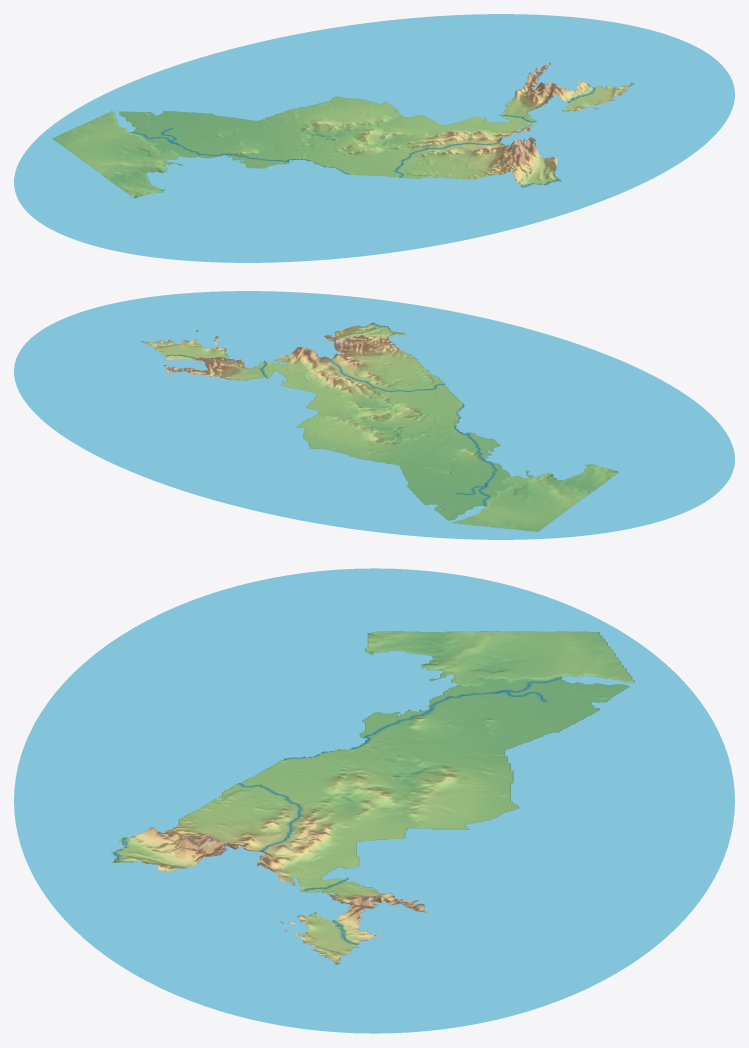
File: UZB-terrain.glb
3 renders of one model, top to bottom at view 1: azimuth 30°, elevation 25°; view 2: azimuth 150°, elevation 25°; view 3: azimuth 270°, elevation 25°, orthographic. The views are drawn at different scales.
Visible parts, largest first — view 1: Relevo com hidrografia; view 2: Relevo com hidrografia; view 3: Relevo com hidrografia.
Part boxes in pixels (x1,y1,x2,y2): Relevo com hidrografia: (14,14,734,262); Relevo com hidrografia: (14,291,734,539); Relevo com hidrografia: (14,568,734,1033).
Bounding box in the file's own units: 2.21 × 0.0541 × 1.45.
Materials: 2 (1 with a texture image).
